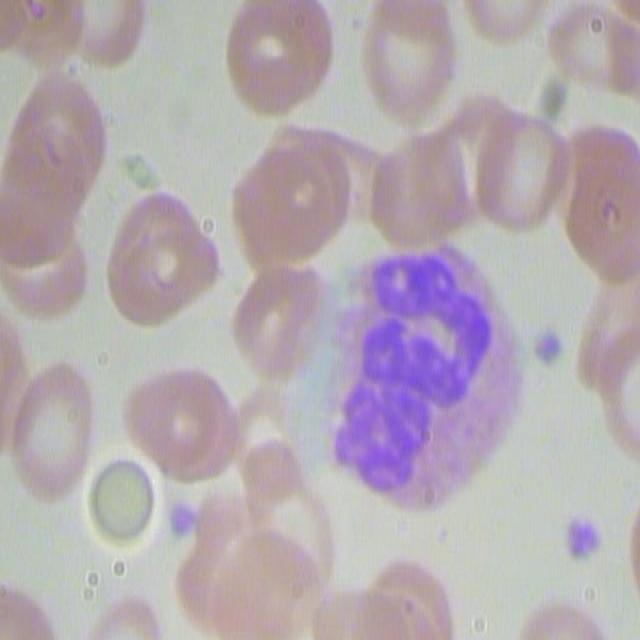RBC: (0, 66, 94, 326), (229, 122, 354, 278), (102, 189, 216, 334), (547, 105, 637, 279), (124, 348, 236, 485), (459, 100, 568, 240), (0, 363, 98, 502), (371, 130, 488, 246), (219, 1, 337, 116), (355, 1, 458, 125), (9, 78, 110, 195), (248, 439, 331, 575), (205, 534, 310, 640), (234, 271, 325, 381), (548, 0, 640, 108), (28, 0, 146, 69), (303, 587, 441, 640), (575, 278, 640, 387), (600, 334, 640, 462), (456, 0, 553, 46)
WBC: (334, 257, 525, 514)
platelets: (560, 507, 604, 568), (532, 326, 566, 374)
